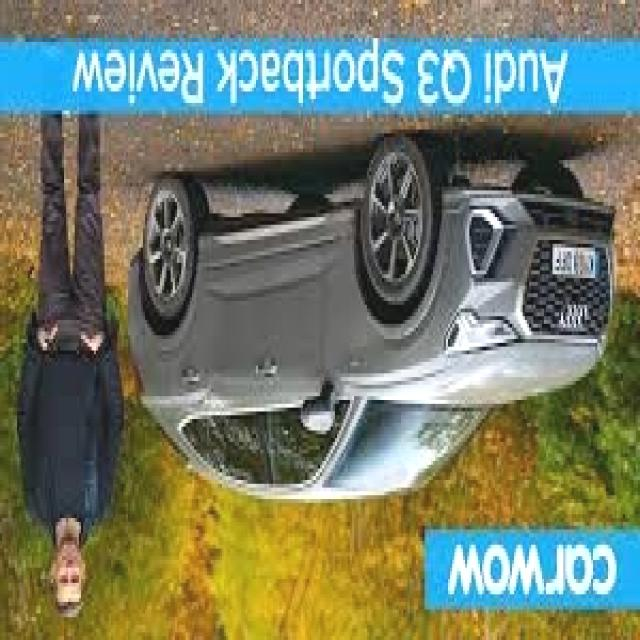black: (98, 112, 613, 541)
